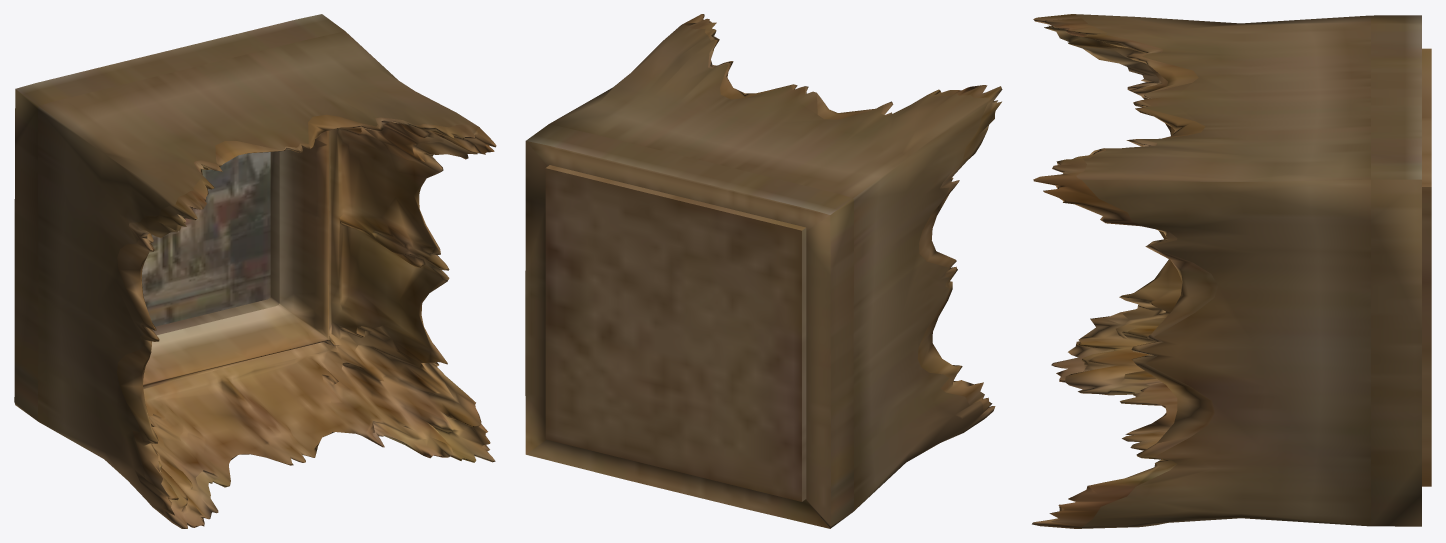
File: ph-fancy-picture-frame-02.glb
3 renders of one model, left to right at view 1: azimuth 30°, elevation 25°; view 2: azimuth 150°, elevation 25°; view 3: azimuth 270°, elevation 25°, orthographic. The views are drawn at different scales.
Parts seen in each view (by area): view 1: fancy_picture_frame_02, fancy_picture_frame_02_canvas; view 2: fancy_picture_frame_02; view 3: fancy_picture_frame_02.
Part boxes in pixels (box(x1,y1,x2,y2)): fancy_picture_frame_02: box(14, 14, 496, 528); fancy_picture_frame_02_canvas: box(142, 152, 270, 326); fancy_picture_frame_02: box(525, 14, 1002, 528); fancy_picture_frame_02: box(1032, 14, 1431, 528).
Bounding box in the file's own units: 0.9978 × 1 × 1.
2 materials, 2 textured.
